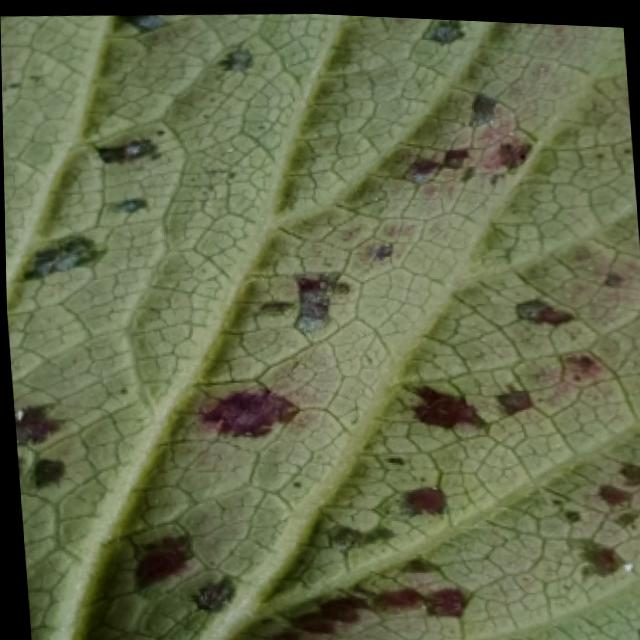Angular Leafspot: (0, 11, 640, 640)
